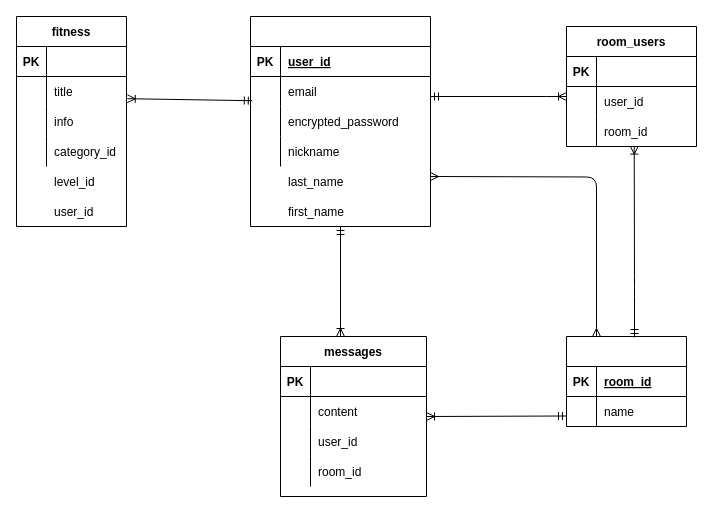
This 713x513 diagram has some shape labels left out. The box of each missing label's shape, as (x1, y1, x2, y2) in pixels:
rooms: (566, 336, 686, 426)
users: (250, 16, 430, 226)
